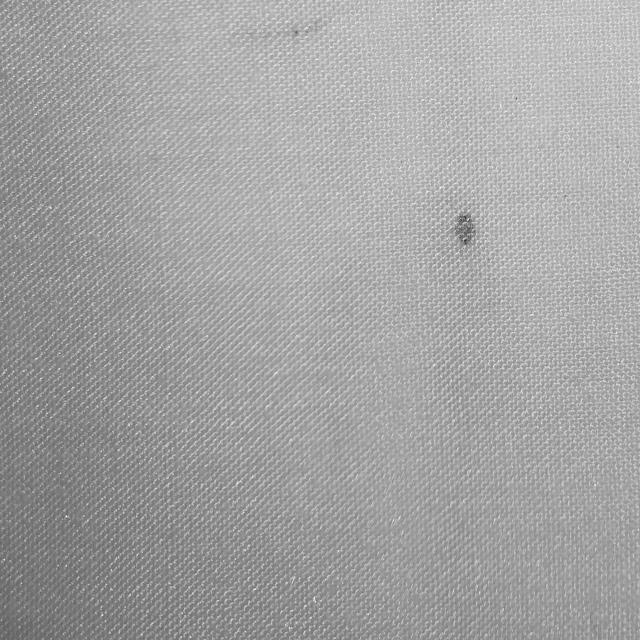Stain: (455, 213, 475, 244)
